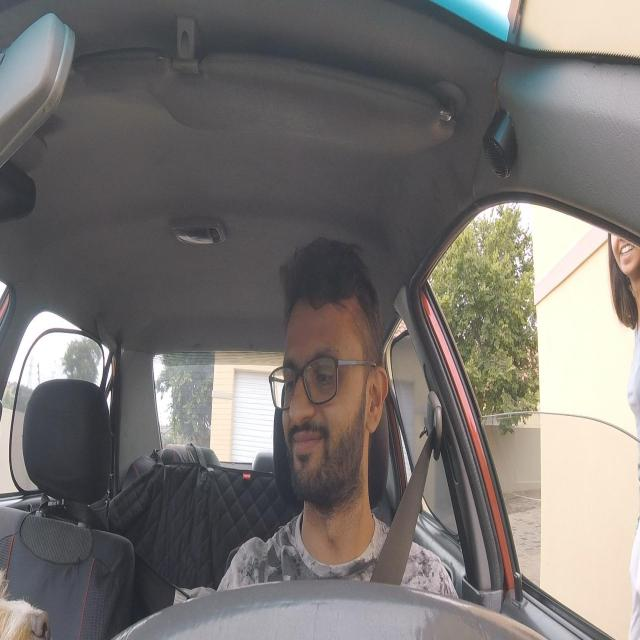open: (308, 344, 343, 400), (280, 348, 301, 402)
